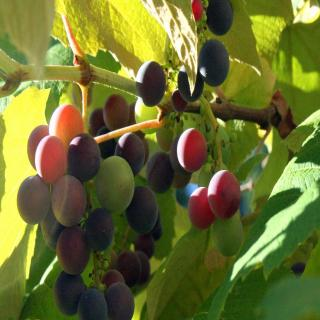Grape: (17, 39, 244, 318), (208, 170, 240, 220), (199, 40, 230, 89), (210, 215, 243, 258), (188, 187, 214, 230), (208, 0, 234, 35), (191, 1, 203, 20)
